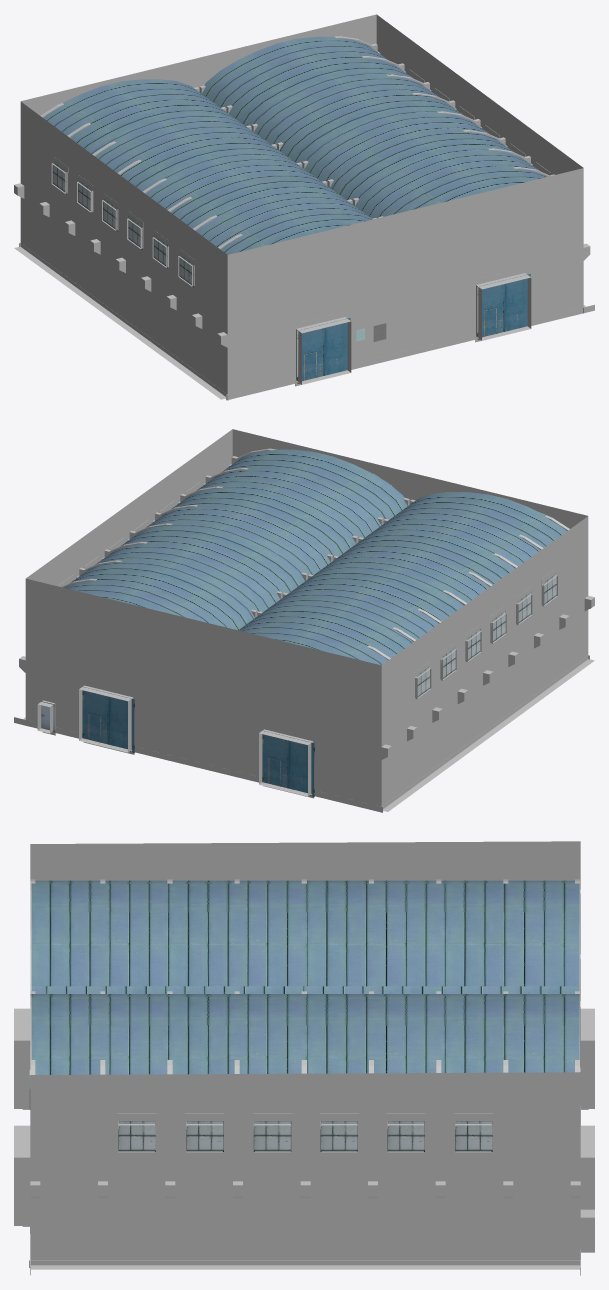
3 views of the same model, one above another, from view 1: azimuth 30°, elevation 25°; view 2: azimuth 150°, elevation 25°; view 3: azimuth 270°, elevation 25° (orthographic). The views are drawn at different scales.
Visible parts, largest first — view 1: Box046, Cylinder052, Box122, Box175, Group001, Box028, Plane001; view 2: Box046, Cylinder052, Box175, Box122, Group001, Box028, Plane001; view 3: Box046, Cylinder052, Group001, Plane001, Box122, Box028.
Boxes of the visible parts, box(x1,y1,x2,y2) form: Box046: box(20, 14, 583, 392); Cylinder052: box(43, 36, 547, 286); Box122: box(14, 51, 590, 394); Box175: box(297, 274, 530, 384); Group001: box(19, 69, 594, 400); Box028: box(40, 36, 554, 249); Plane001: box(14, 246, 585, 399); Box046: box(25, 429, 588, 806); Cylinder052: box(64, 449, 566, 698); Box175: box(41, 686, 314, 796); Box122: box(19, 464, 594, 806); Group001: box(14, 482, 589, 812); Box028: box(61, 448, 569, 660); Plane001: box(23, 659, 594, 811); Box046: box(14, 841, 594, 1260); Cylinder052: box(31, 880, 579, 1151); Group001: box(22, 1001, 588, 1275); Plane001: box(31, 1265, 580, 1269); Box122: box(30, 889, 580, 1198); Box028: box(30, 879, 579, 1074).
Size of the model in its own units: 26205 by 10035 by 26501.
